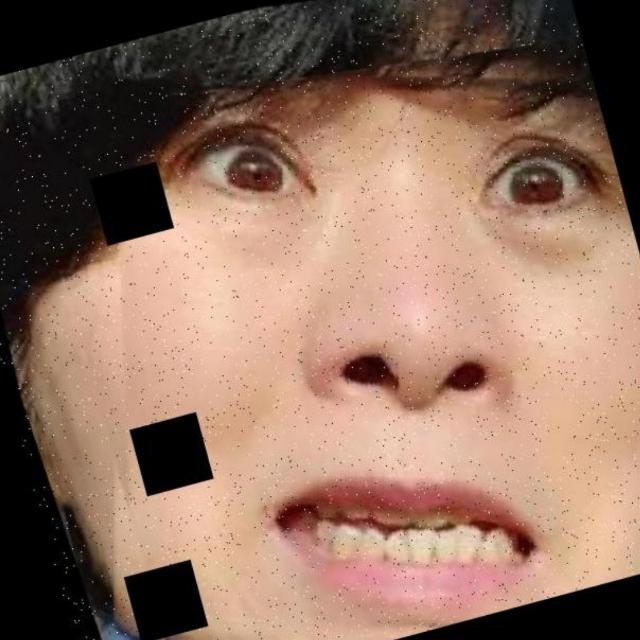Angry: (67, 51, 640, 640)
